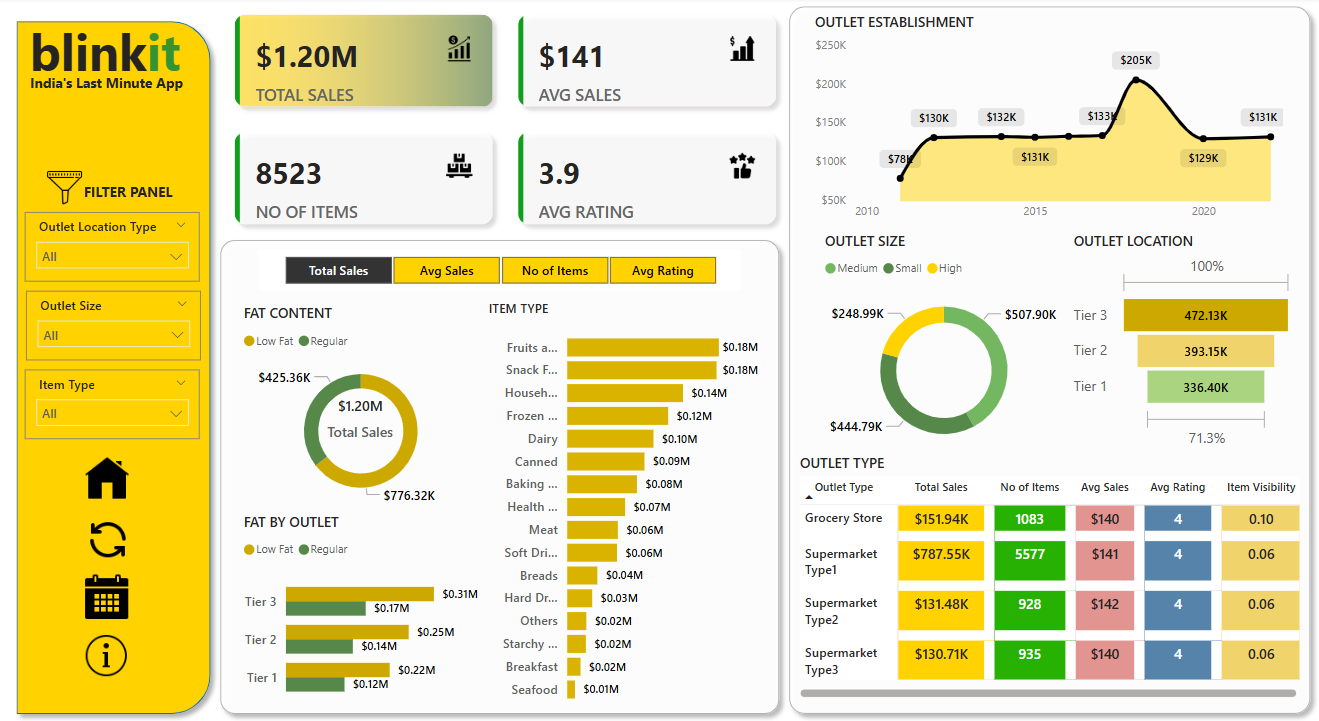

Layout of this report page (visuals, bound fields, positions):
{"tool":"powerbi","page":{"name":"Page 1","canvas":[1280,720],"ordinal":0},"visuals":[{"type":"shape","box":[10.9,14.5,205.1,686.5],"z":0},{"type":"textbox","box":[27.7,14.5,168.9,82],"z":1000},{"type":"textbox","box":[27.7,68.8,168.9,38.6],"z":2000},{"type":"cardVisual","fields":{"Data":["BlinkIT Grocery Data.Total Sales","BlinkIT Grocery Data.Avg Sales","BlinkIT Grocery Data.No of Items","BlinkIT Grocery Data.Avg Rating"]},"box":[213.5,0,557.4,237.7],"z":3000},{"type":"shape","box":[207.5,225.6,557.4,475.3],"z":4000},{"type":"donutChart","title":"FAT CONTENT","fields":{"Y":["BlinkIT Grocery Data.Total Sales"],"Series":["BlinkIT Grocery Data.Item Fat Content"]},"box":[234,295.6,236.5,201.5],"z":5000},{"type":"slicer","fields":{"Values":["Metrics.Metrics"]},"box":[253.4,243.7,465.7,39.8],"z":6000},{"type":"cardVisual","fields":{"Data":["BlinkIT Grocery Data.Total Sales"]},"box":[300.4,364.3,102.5,85.7],"z":7000},{"type":"clusteredBarChart","title":"FAT BY OUTLET","fields":{"Y":["BlinkIT Grocery Data.Total Sales"],"Category":["BlinkIT Grocery Data.Outlet Location Type"],"Series":["BlinkIT Grocery Data.Item Fat Content"]},"box":[234,497.1,236.5,194.2],"z":8000},{"type":"barChart","title":"ITEM TYPE","fields":{"Y":["BlinkIT Grocery Data.Total Sales"],"Category":["BlinkIT Grocery Data.Item Type"]},"box":[470.5,292,270.2,399.3],"z":9000},{"type":"shape","box":[756.4,0,521.2,700.9],"z":10000},{"type":"lineChart","title":"OUTLET ESTABLISHMENT","fields":{"Category":["BlinkIT Grocery Data.Outlet Establishment Year"],"Y":["BlinkIT Grocery Data.Total Sales"]},"box":[785.4,14.5,462.1,209.9],"z":11000},{"type":"donutChart","title":"OUTLET SIZE","fields":{"Category":["BlinkIT Grocery Data.Outlet Size"],"Y":["BlinkIT Grocery Data.Total Sales"]},"box":[795,225.6,240.1,224.4],"z":12000},{"type":"funnel","title":"OUTLET LOCATION","fields":{"Y":["Sum(BlinkIT Grocery Data.Sales)"],"Category":["BlinkIT Grocery Data.Outlet Location Type"]},"box":[1035.1,225.6,222,214.7],"z":13000},{"type":"pivotTable","title":"OUTLET TYPE","fields":{"Rows":["BlinkIT Grocery Data.Outlet Type"],"Values":["BlinkIT Grocery Data.Total Sales","BlinkIT Grocery Data.No of Items","BlinkIT Grocery Data.Avg Sales","BlinkIT Grocery Data.Avg Rating","Avg(BlinkIT Grocery Data.Item Visibility)"]},"box":[770.9,440.4,492.2,241.3],"z":14000},{"type":"slicer","fields":{"Values":["BlinkIT Grocery Data.Outlet Location Type"]},"box":[27.7,207.5,168.9,67.6],"z":15000},{"type":"slicer","fields":{"Values":["BlinkIT Grocery Data.Outlet Size"]},"box":[29,283.5,168.9,67.6],"z":16000},{"type":"slicer","fields":{"Values":["BlinkIT Grocery Data.Item Type"]},"box":[27.7,359.5,168.9,67.6],"z":17000},{"type":"textbox","box":[79.6,173.7,107.4,33.8],"z":18000},{"type":"image","box":[43.4,159.3,45.8,48.3],"z":19000},{"type":"image","box":[80.8,437.9,53.1,54.3],"z":20000},{"type":"image","box":[82,497.1,51.9,53.1],"z":21000},{"type":"image","box":[79.6,550.1,54.3,59.1],"z":22000},{"type":"image","box":[78.4,609.3,56.7,53.1],"z":23000}]}

Visuals, with their boxes in screenshot pixels (x1, y1, x2, y2), scaled from the page's 1280x720 canvas onto the 1319x721 screenshot:
shape: Rect(11, 15, 223, 702)
textbox: Rect(29, 15, 203, 97)
textbox: Rect(29, 69, 203, 108)
cardVisual - BlinkIT Grocery Data.Total Sales x BlinkIT Grocery Data.Avg Sales: Rect(220, 0, 794, 238)
shape: Rect(214, 226, 788, 702)
"FAT CONTENT" donutChart: Rect(241, 296, 485, 498)
slicer - Metrics.Metrics: Rect(261, 244, 741, 284)
cardVisual - BlinkIT Grocery Data.Total Sales: Rect(310, 365, 415, 451)
"FAT BY OUTLET" clusteredBarChart: Rect(241, 498, 485, 692)
"ITEM TYPE" barChart: Rect(485, 292, 763, 692)
shape: Rect(779, 0, 1317, 702)
"OUTLET ESTABLISHMENT" lineChart: Rect(809, 15, 1286, 225)
"OUTLET SIZE" donutChart: Rect(819, 226, 1067, 451)
"OUTLET LOCATION" funnel: Rect(1067, 226, 1295, 441)
"OUTLET TYPE" pivotTable: Rect(794, 441, 1302, 683)
slicer - BlinkIT Grocery Data.Outlet Location Type: Rect(29, 208, 203, 275)
slicer - BlinkIT Grocery Data.Outlet Size: Rect(30, 284, 204, 352)
slicer - BlinkIT Grocery Data.Item Type: Rect(29, 360, 203, 428)
textbox: Rect(82, 174, 193, 208)
image: Rect(45, 160, 92, 208)
image: Rect(83, 439, 138, 493)
image: Rect(84, 498, 138, 551)
image: Rect(82, 551, 138, 610)
image: Rect(81, 610, 139, 663)
